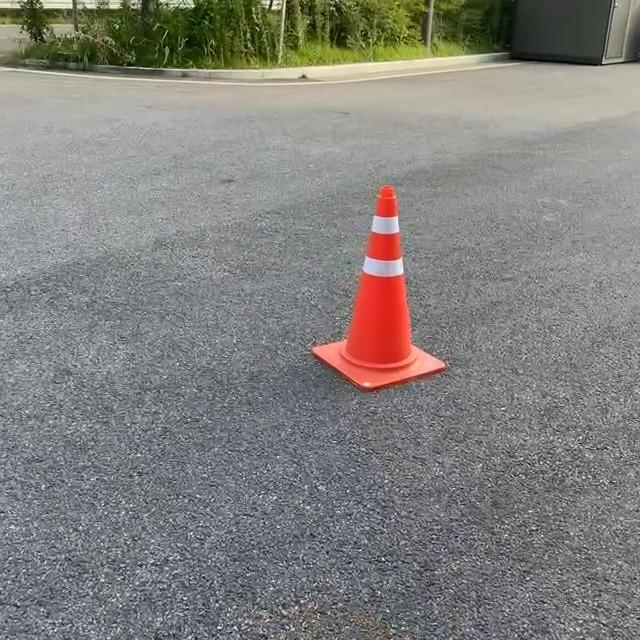fallen_object: (298, 146, 448, 372)
